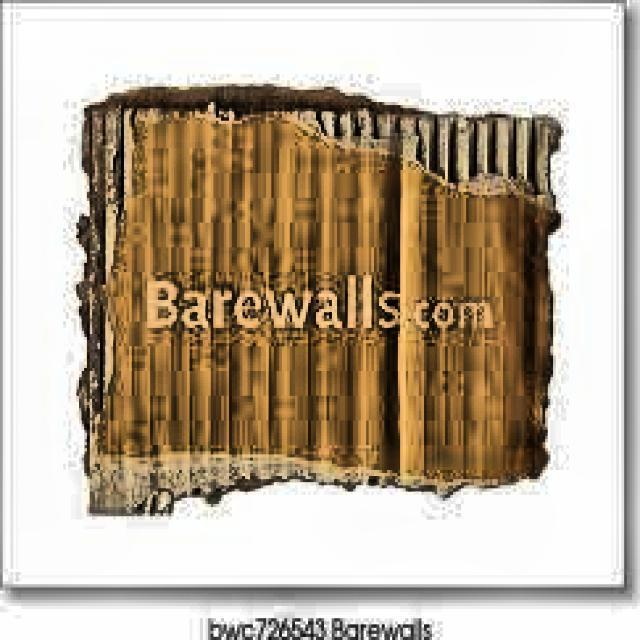cardboard: (74, 80, 564, 514)
